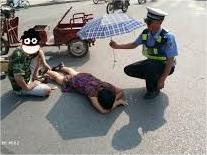bending: (113, 3, 183, 98), (1, 33, 62, 107)
down: (37, 59, 135, 120)
